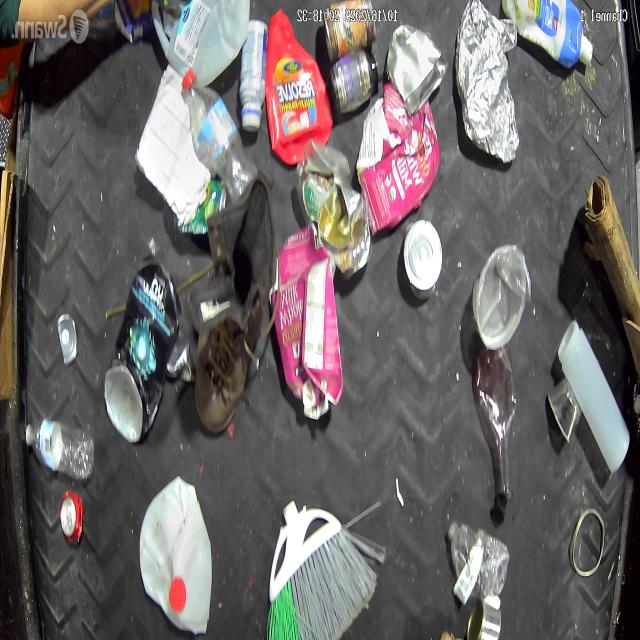can: (383, 10, 446, 114), (394, 208, 449, 312), (319, 178, 371, 285), (316, 2, 379, 68), (54, 482, 94, 548)
milk_jug: (130, 471, 215, 640), (147, 0, 255, 96)
non_white_jug: (270, 224, 342, 417), (356, 85, 441, 234), (265, 0, 333, 182)
plastic_bottle: (173, 61, 259, 217), (16, 413, 96, 492), (445, 519, 511, 602)
